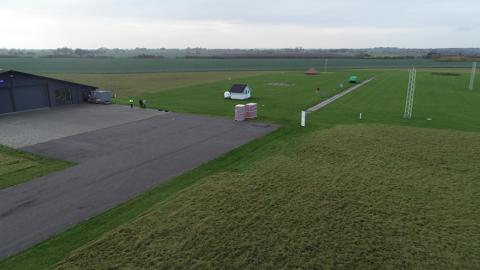RockwoolPallet: (246, 102, 258, 119)
